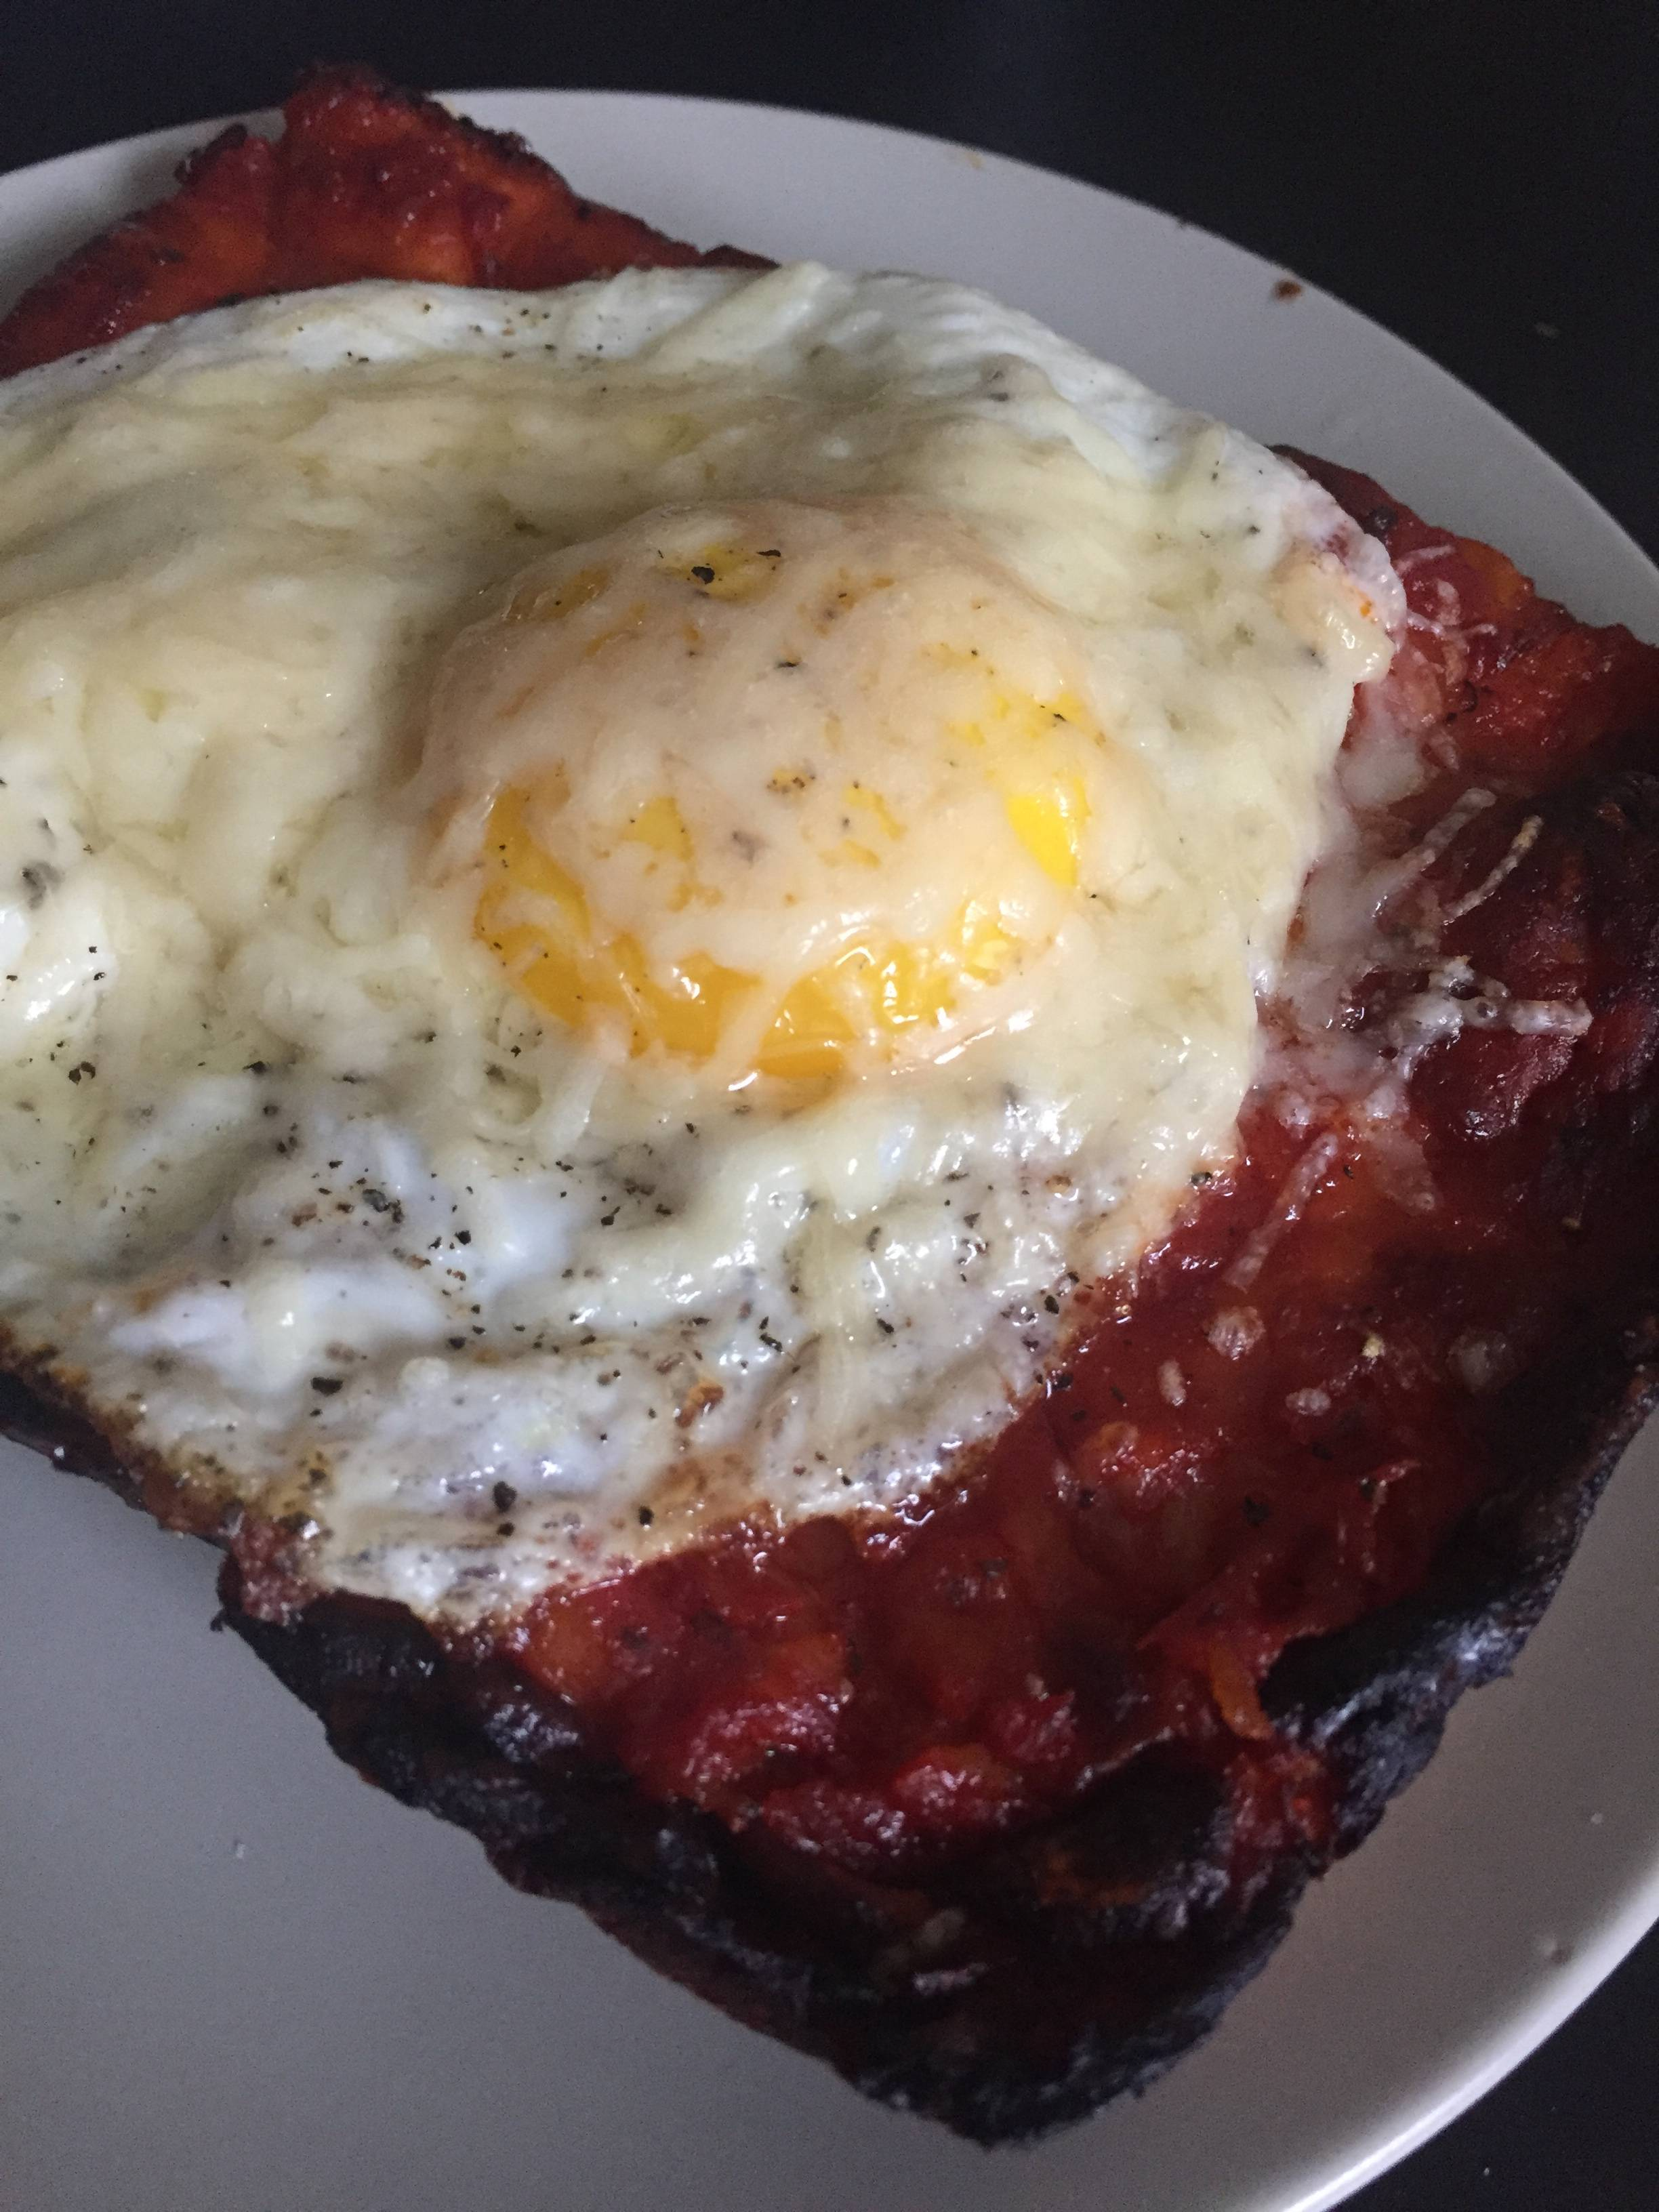fried egg: (26, 266, 1349, 1676)
